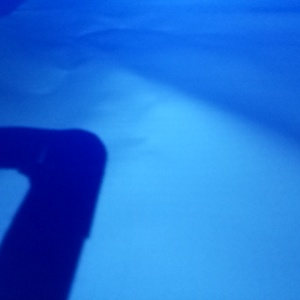bottom_left: (44, 140, 227, 263)
